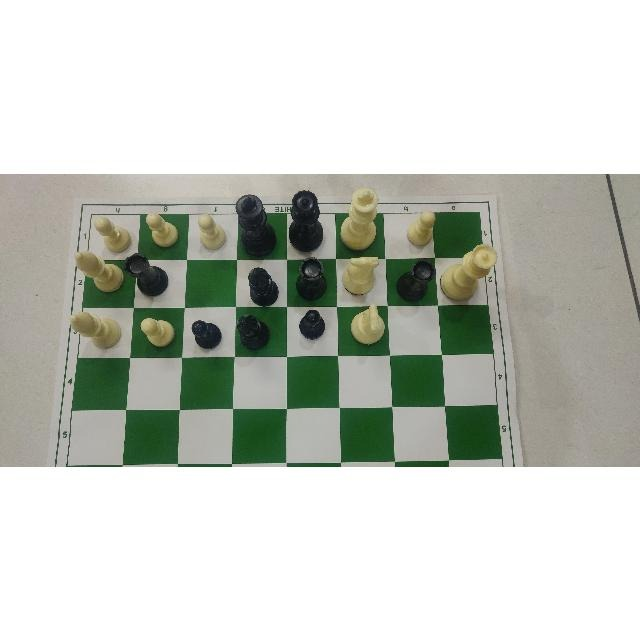black-bishop: (240, 261, 285, 308), (233, 307, 274, 352)
black-king: (234, 191, 280, 257)
black-pawn: (295, 307, 331, 345), (189, 314, 222, 352)
black-queen: (286, 189, 328, 250)
black-rook: (124, 250, 171, 298), (294, 253, 334, 298), (393, 258, 435, 300)
white-bishop: (72, 246, 124, 296), (63, 309, 123, 349)
white-king: (338, 183, 383, 250)
white-knight: (348, 301, 392, 344), (339, 257, 376, 295)
white-pawn: (141, 211, 181, 248), (90, 212, 127, 250), (192, 212, 227, 250), (135, 317, 176, 349), (406, 208, 440, 246)
white-queen: (448, 237, 495, 305)
